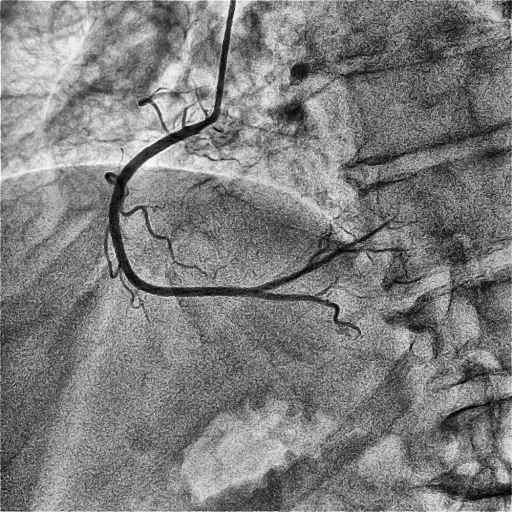pborca: (258, 223, 386, 292)
pda: (258, 292, 362, 340)
rca: (109, 124, 263, 298)
